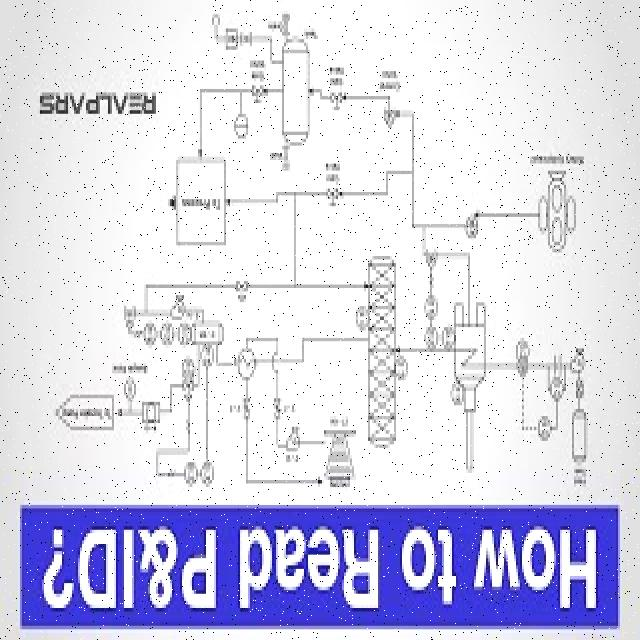Centrifugal Pump: (166, 294, 187, 320)
Gear Pump: (538, 170, 586, 266)
